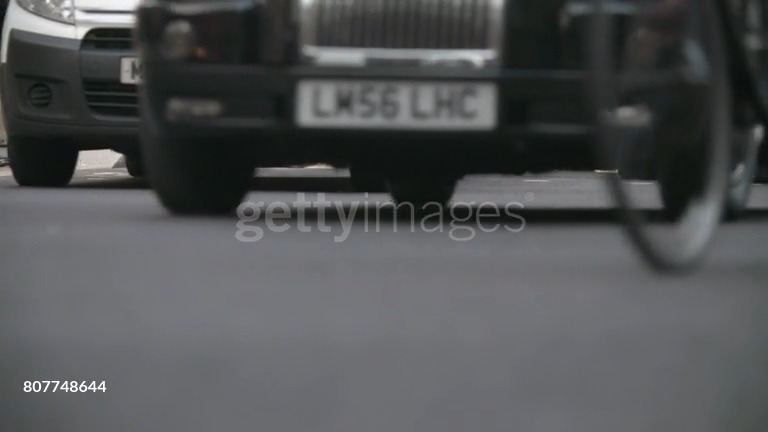car number: (293, 78, 495, 127)
